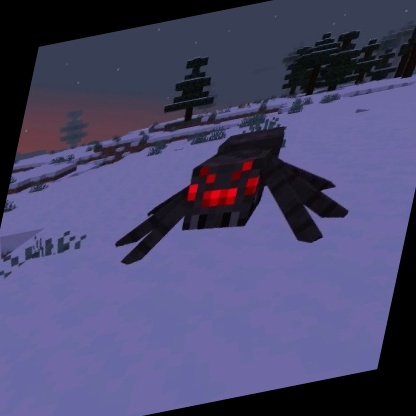spider: (101, 104, 374, 288)
